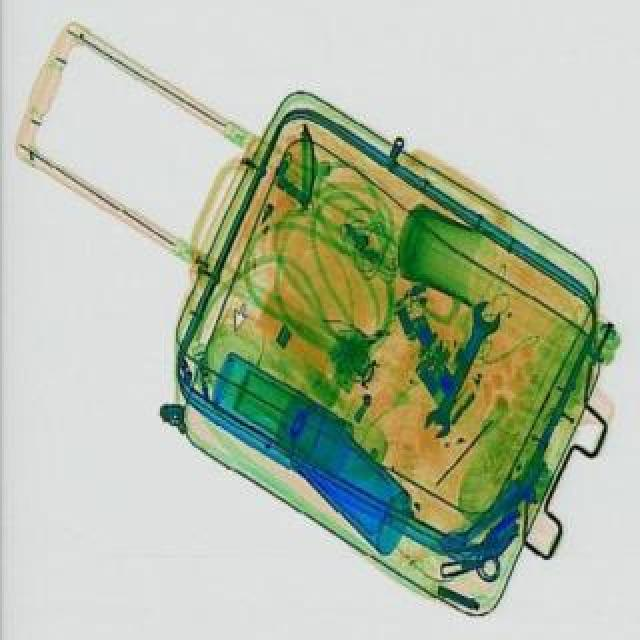scissors: (414, 298, 510, 444)
